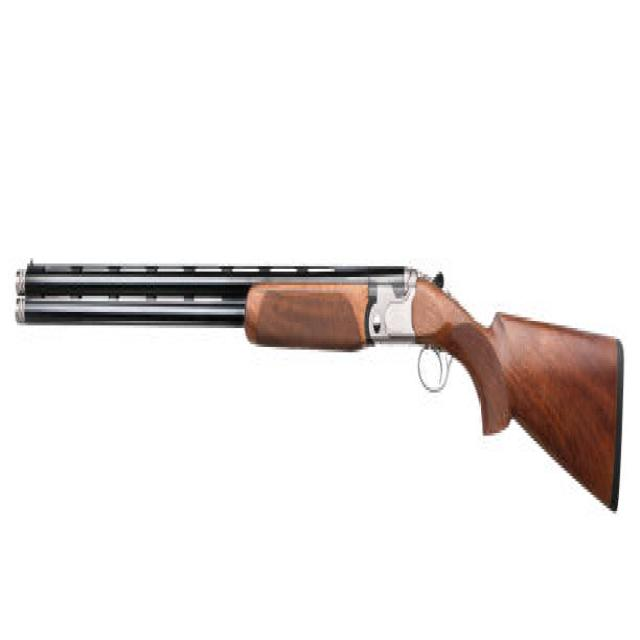rifle: (12, 238, 626, 556)
